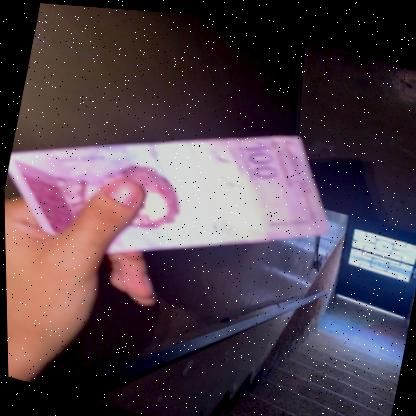one_hundred-front-vef: (1, 57, 347, 313)
